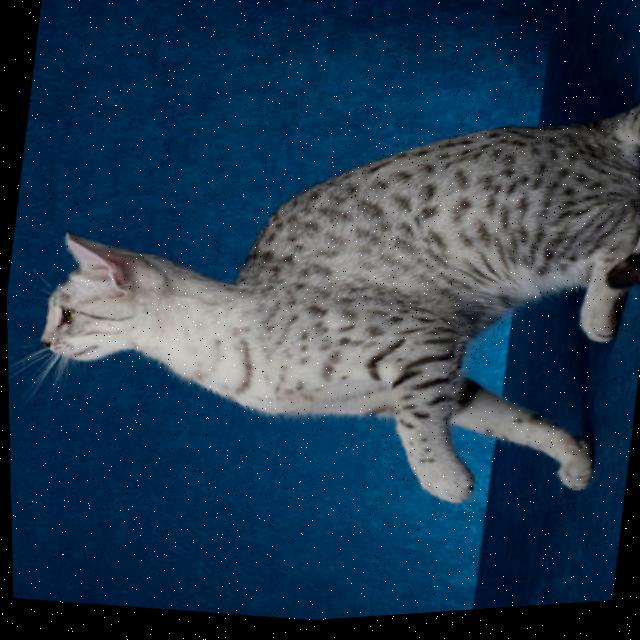Egyptian Mau: (7, 21, 640, 563)
